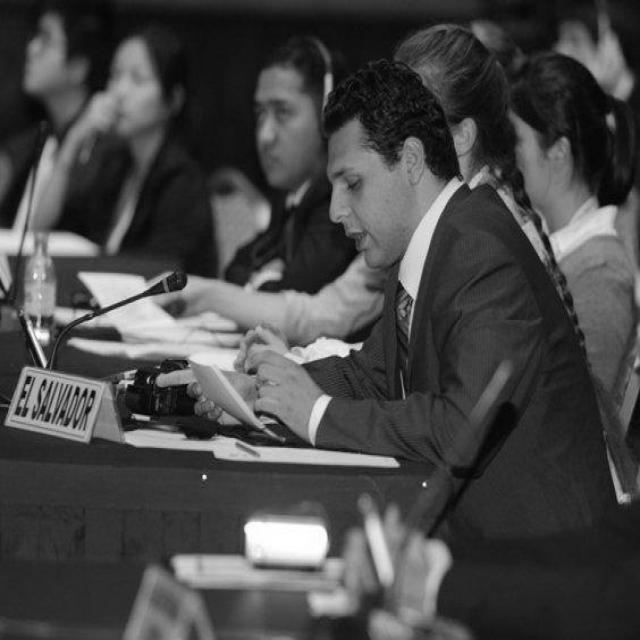person: (322, 80, 589, 578), (102, 24, 195, 289), (504, 70, 619, 253), (403, 24, 507, 212), (238, 47, 309, 304), (5, 5, 84, 136)
